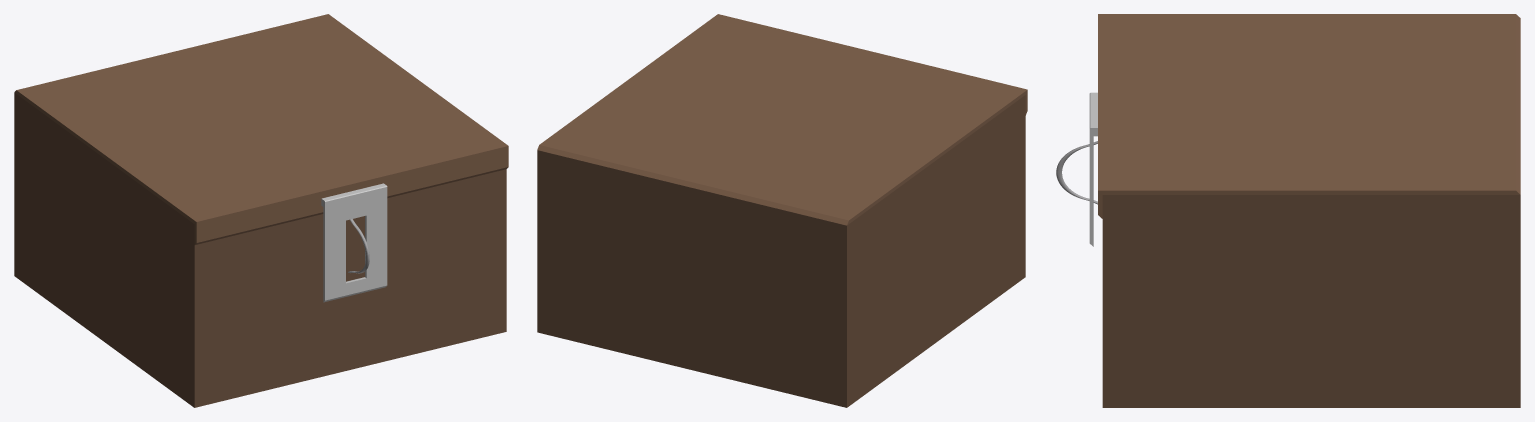
Rendered from kiste2.glb.
3 renders of one model, left to right at view 1: azimuth 30°, elevation 25°; view 2: azimuth 150°, elevation 25°; view 3: azimuth 270°, elevation 25°, orthographic. The views are drawn at different scales.
Parts seen in each view (by area): view 1: Plane, Plane.001; view 2: Plane, Plane.001; view 3: Plane, Plane.001, Circle.
Boxes of the visible parts, box(x1,y1,x2,y2) form: Plane: box(14, 92, 506, 407); Plane.001: box(14, 14, 508, 302); Plane: box(537, 95, 1025, 407); Plane.001: box(537, 14, 1027, 225); Plane: box(1102, 195, 1520, 407); Plane.001: box(1089, 14, 1520, 246); Circle: box(1056, 141, 1097, 204).
Size of the model in its own units: 2 by 1.15 by 2.22.
